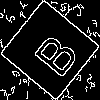B: (25, 25, 81, 80)
